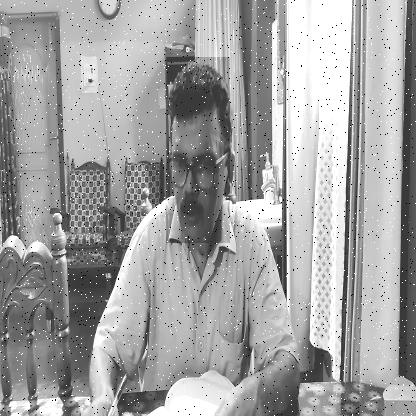Normal: (166, 57, 230, 243)
